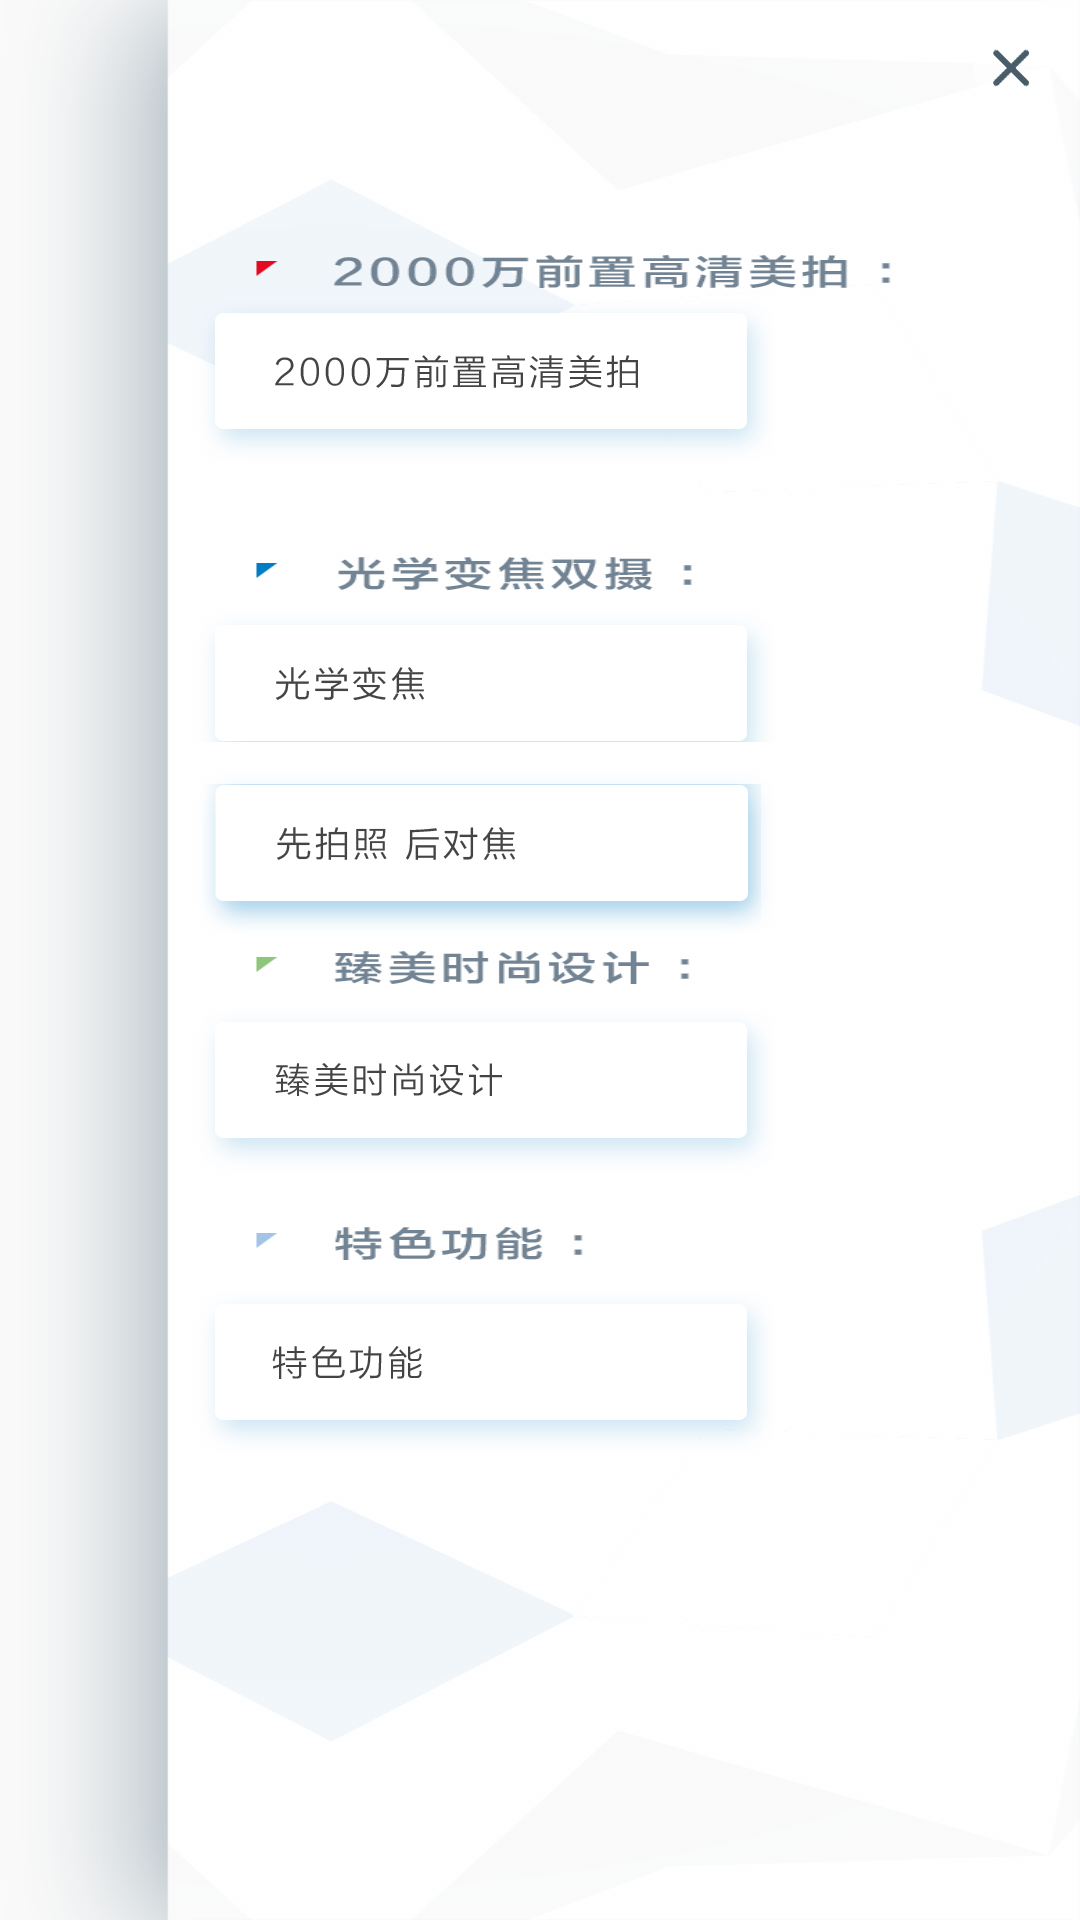

Point at icon controls on the screen. Image size 1080 × 1920, points as (x=x, y=y).
close: (x=1011, y=68)
